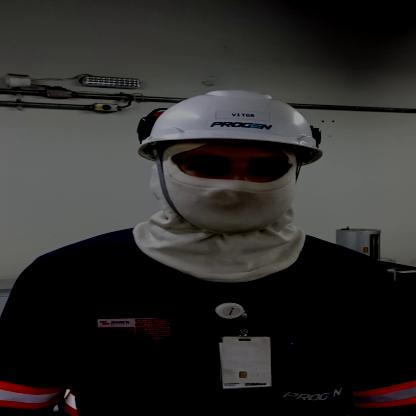Balaclava: (117, 140, 319, 285)
Capacete: (128, 86, 351, 164)
